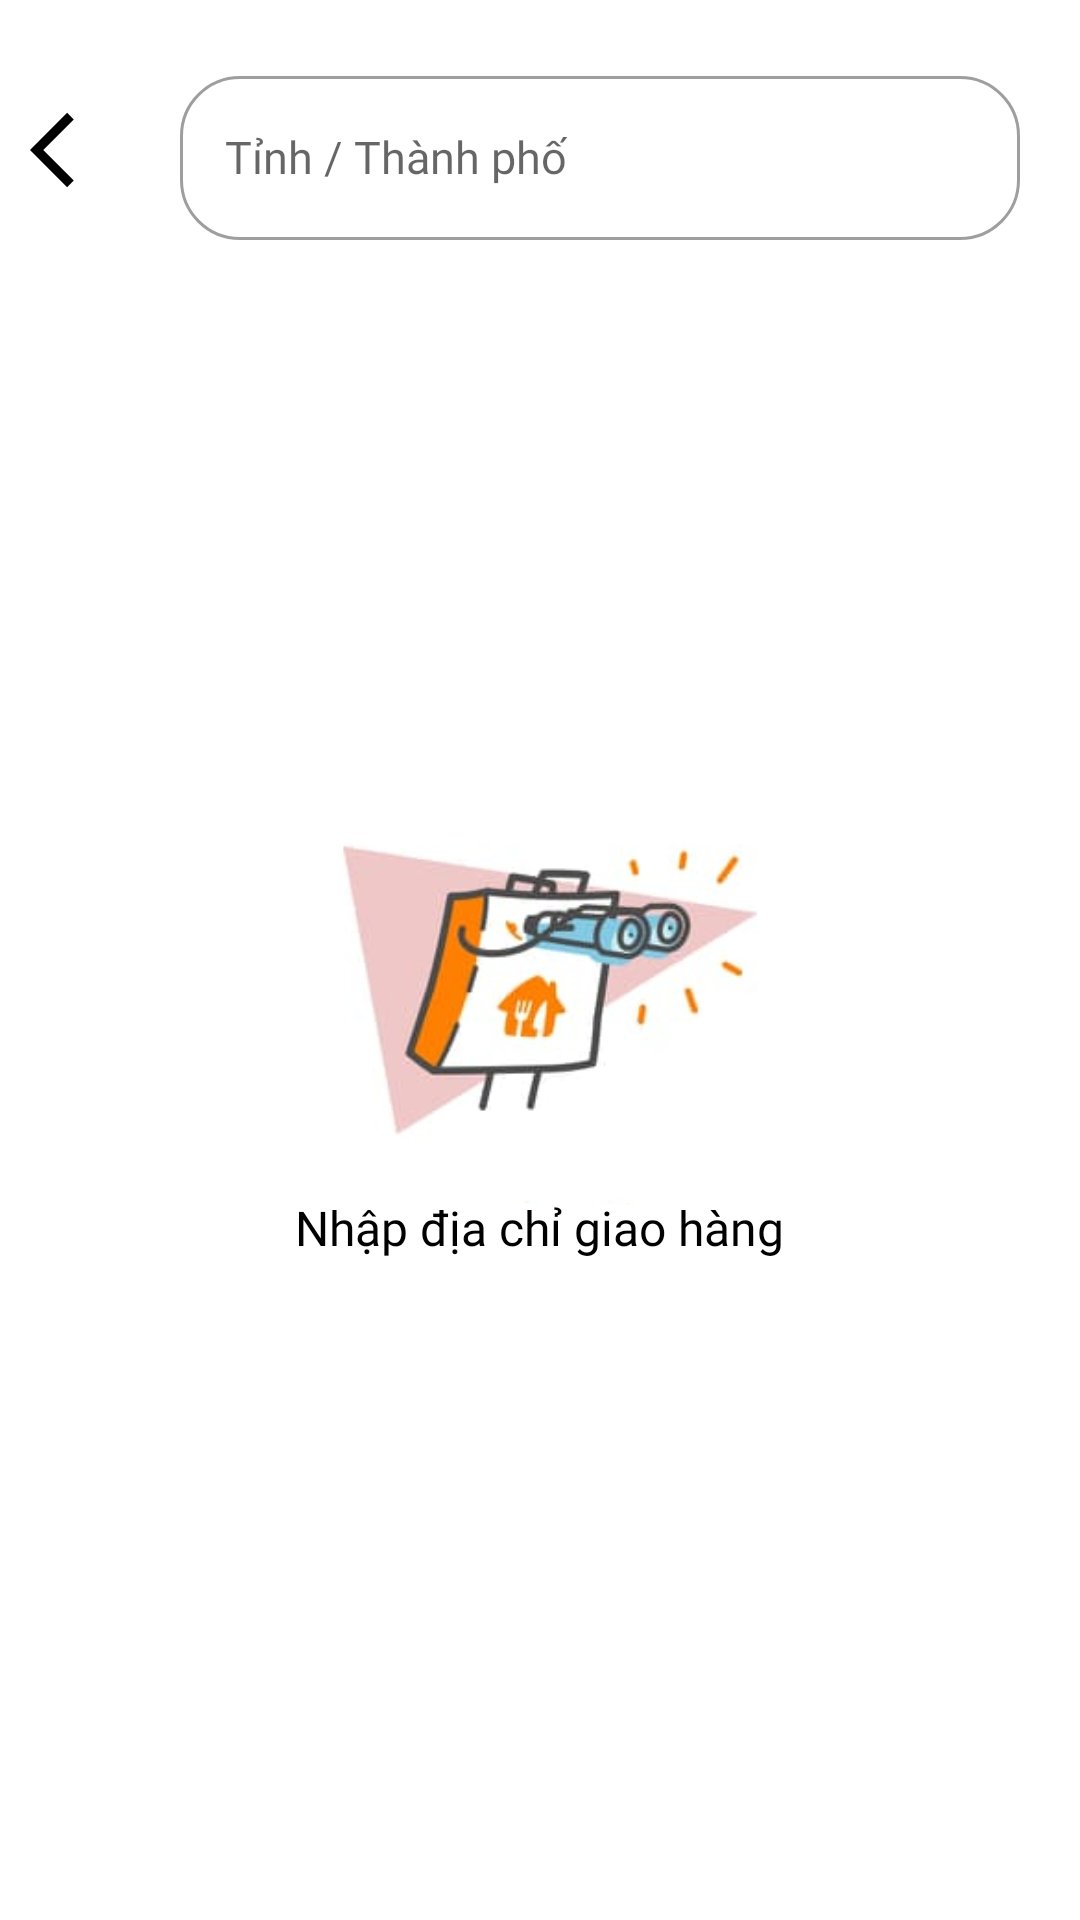

Screen size 1080x1920. Icon name, then its box in pixels as (x1, y1, x2, y2):
back: (30, 113, 74, 187)
